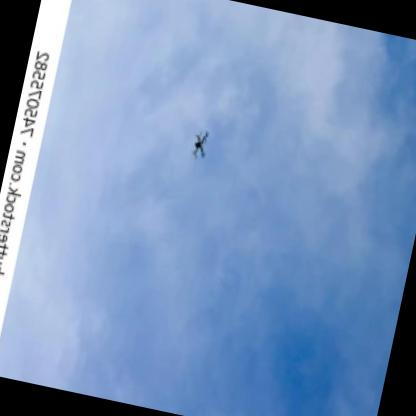drone: (183, 124, 213, 163)
